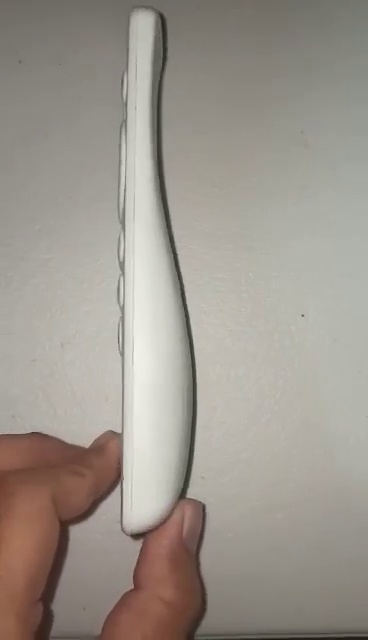remote: (115, 8, 197, 537)
